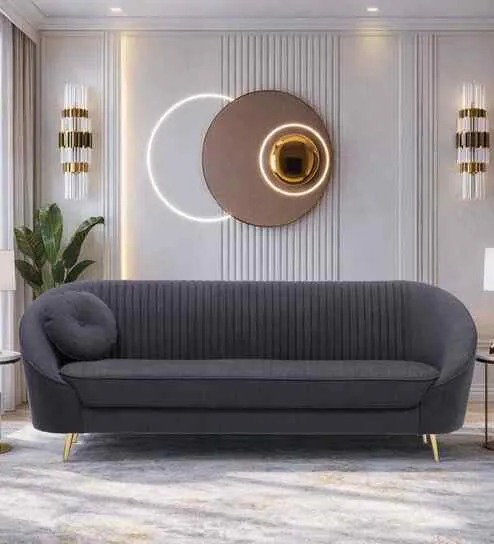3seatersofa: (21, 281, 475, 458)
backrest: (80, 281, 422, 359)
base: (82, 402, 418, 434)
leftarmrest: (407, 282, 476, 433)
leg: (63, 433, 77, 461), (424, 434, 438, 461)
pillow: (42, 292, 116, 360)
rightarmrest: (20, 293, 79, 431)
seat: (62, 359, 437, 406)
